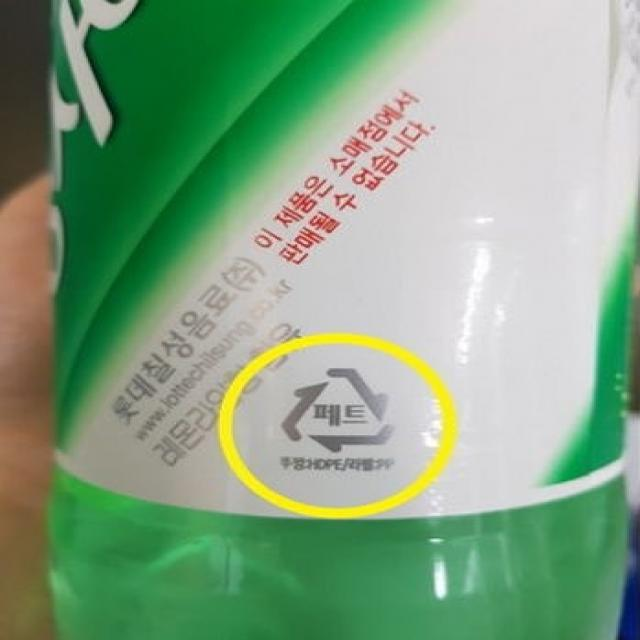PET: (279, 364, 403, 456)
